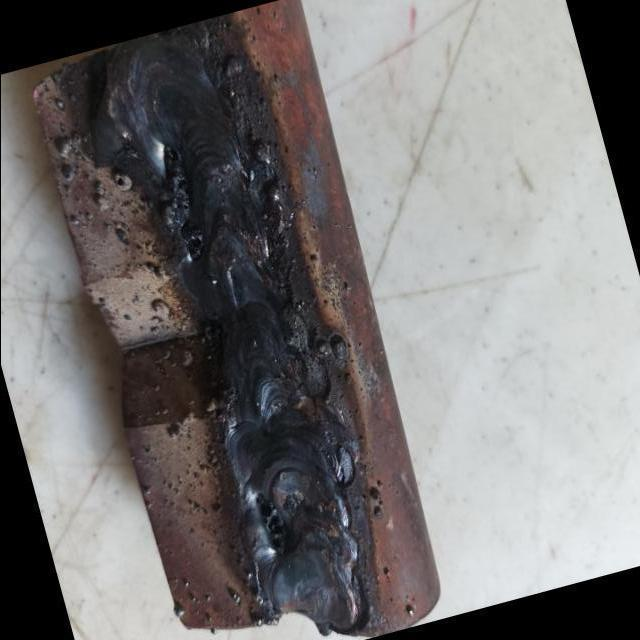defect: (252, 487, 288, 559), (162, 142, 192, 223), (183, 219, 206, 261)
